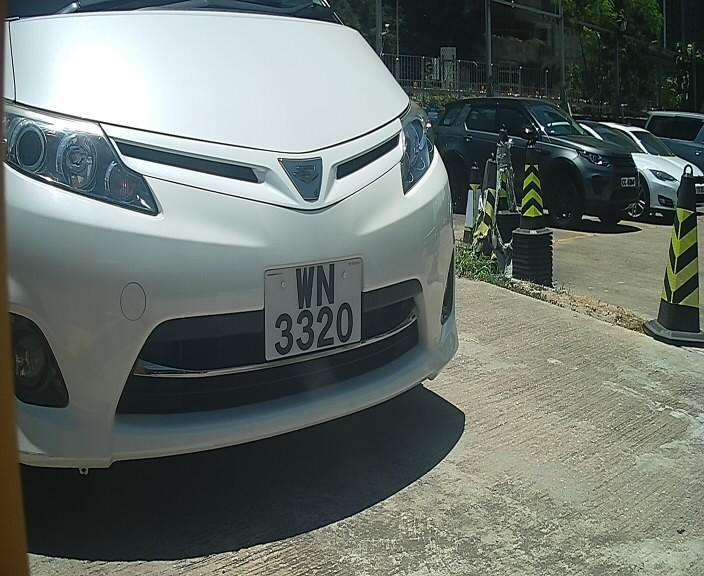privatecar: (7, 11, 478, 512)
